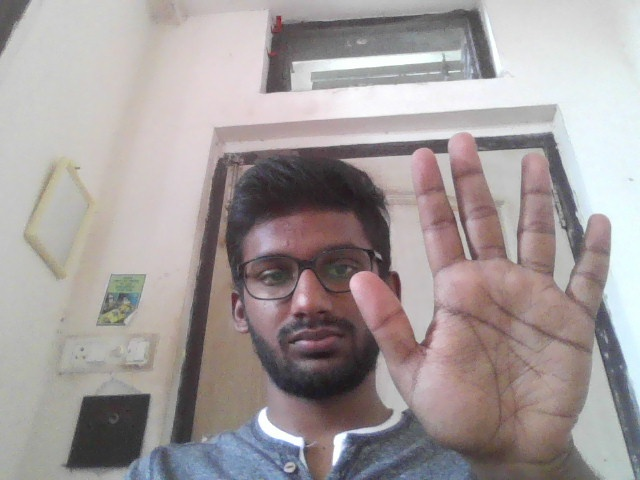Hello: (345, 124, 618, 462)
